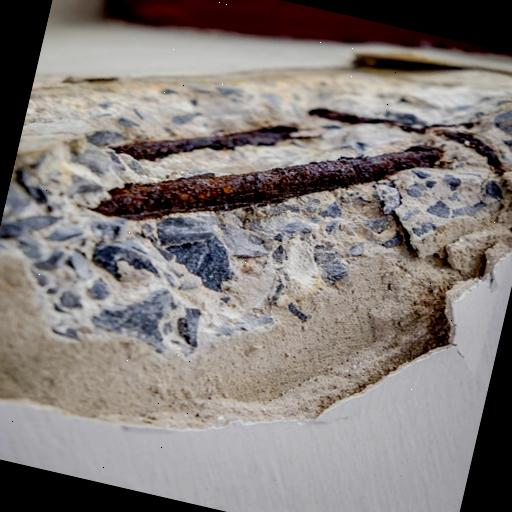spalling: (0, 68, 512, 426)
